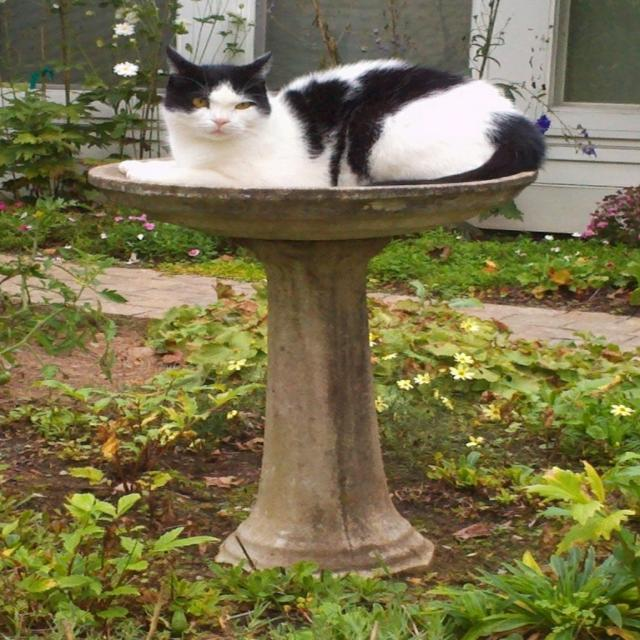Cat: (118, 43, 552, 185)
